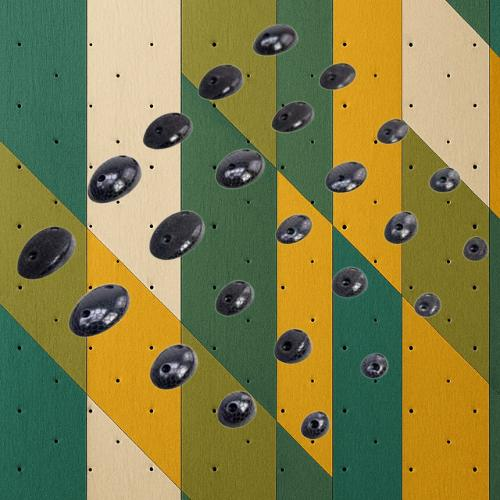Crimp: (68, 282, 130, 336), (16, 226, 75, 280), (148, 210, 204, 260), (87, 154, 142, 204), (150, 343, 197, 390), (216, 148, 264, 188), (142, 112, 192, 149), (198, 63, 244, 100), (216, 390, 257, 428), (252, 23, 298, 55), (215, 279, 254, 316), (273, 327, 311, 364), (324, 160, 366, 192), (271, 101, 313, 132), (331, 266, 367, 298), (383, 211, 417, 244), (275, 213, 312, 243), (319, 62, 356, 90), (300, 411, 330, 439), (376, 118, 408, 144), (429, 167, 460, 192), (360, 353, 388, 378), (462, 236, 488, 261), (414, 292, 441, 316)
